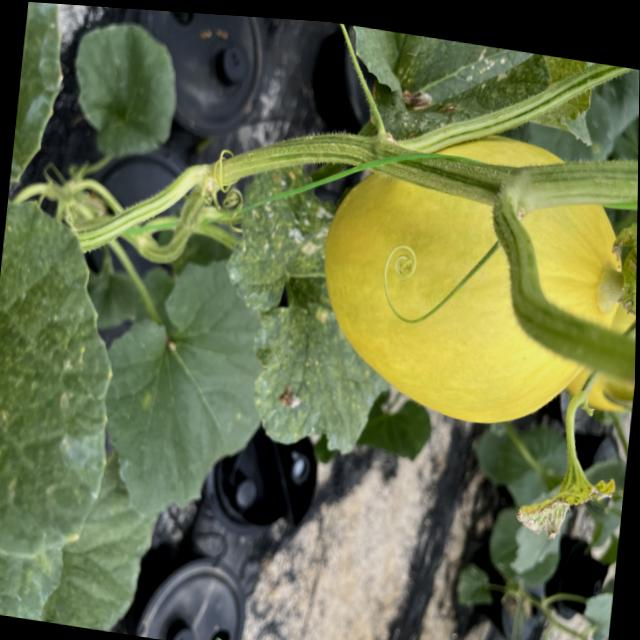alternaria leaf blight: (508, 440, 614, 551)
